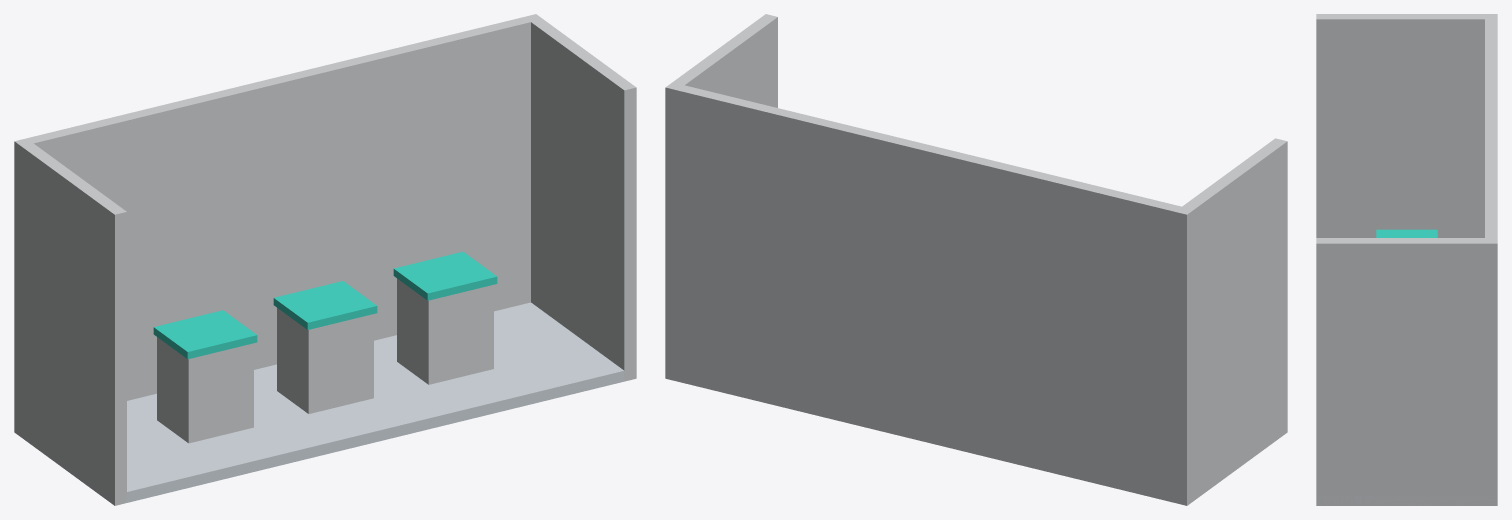
3 renders of one model, left to right at view 1: azimuth 30°, elevation 25°; view 2: azimuth 150°, elevation 25°; view 3: azimuth 270°, elevation 25°, orthographic. The views are drawn at different scales.
Visible parts, largest first — view 1: Exhibition Booth Concept; view 2: Exhibition Booth Concept; view 3: Exhibition Booth Concept.
Boxes of the visible parts, left/top/right/bottom form: Exhibition Booth Concept: left=14, top=14, right=636, bottom=505; Exhibition Booth Concept: left=665, top=14, right=1287, bottom=505; Exhibition Booth Concept: left=1316, top=14, right=1497, bottom=505.
Size of the model in its own units: 6 by 3.2 by 2.
